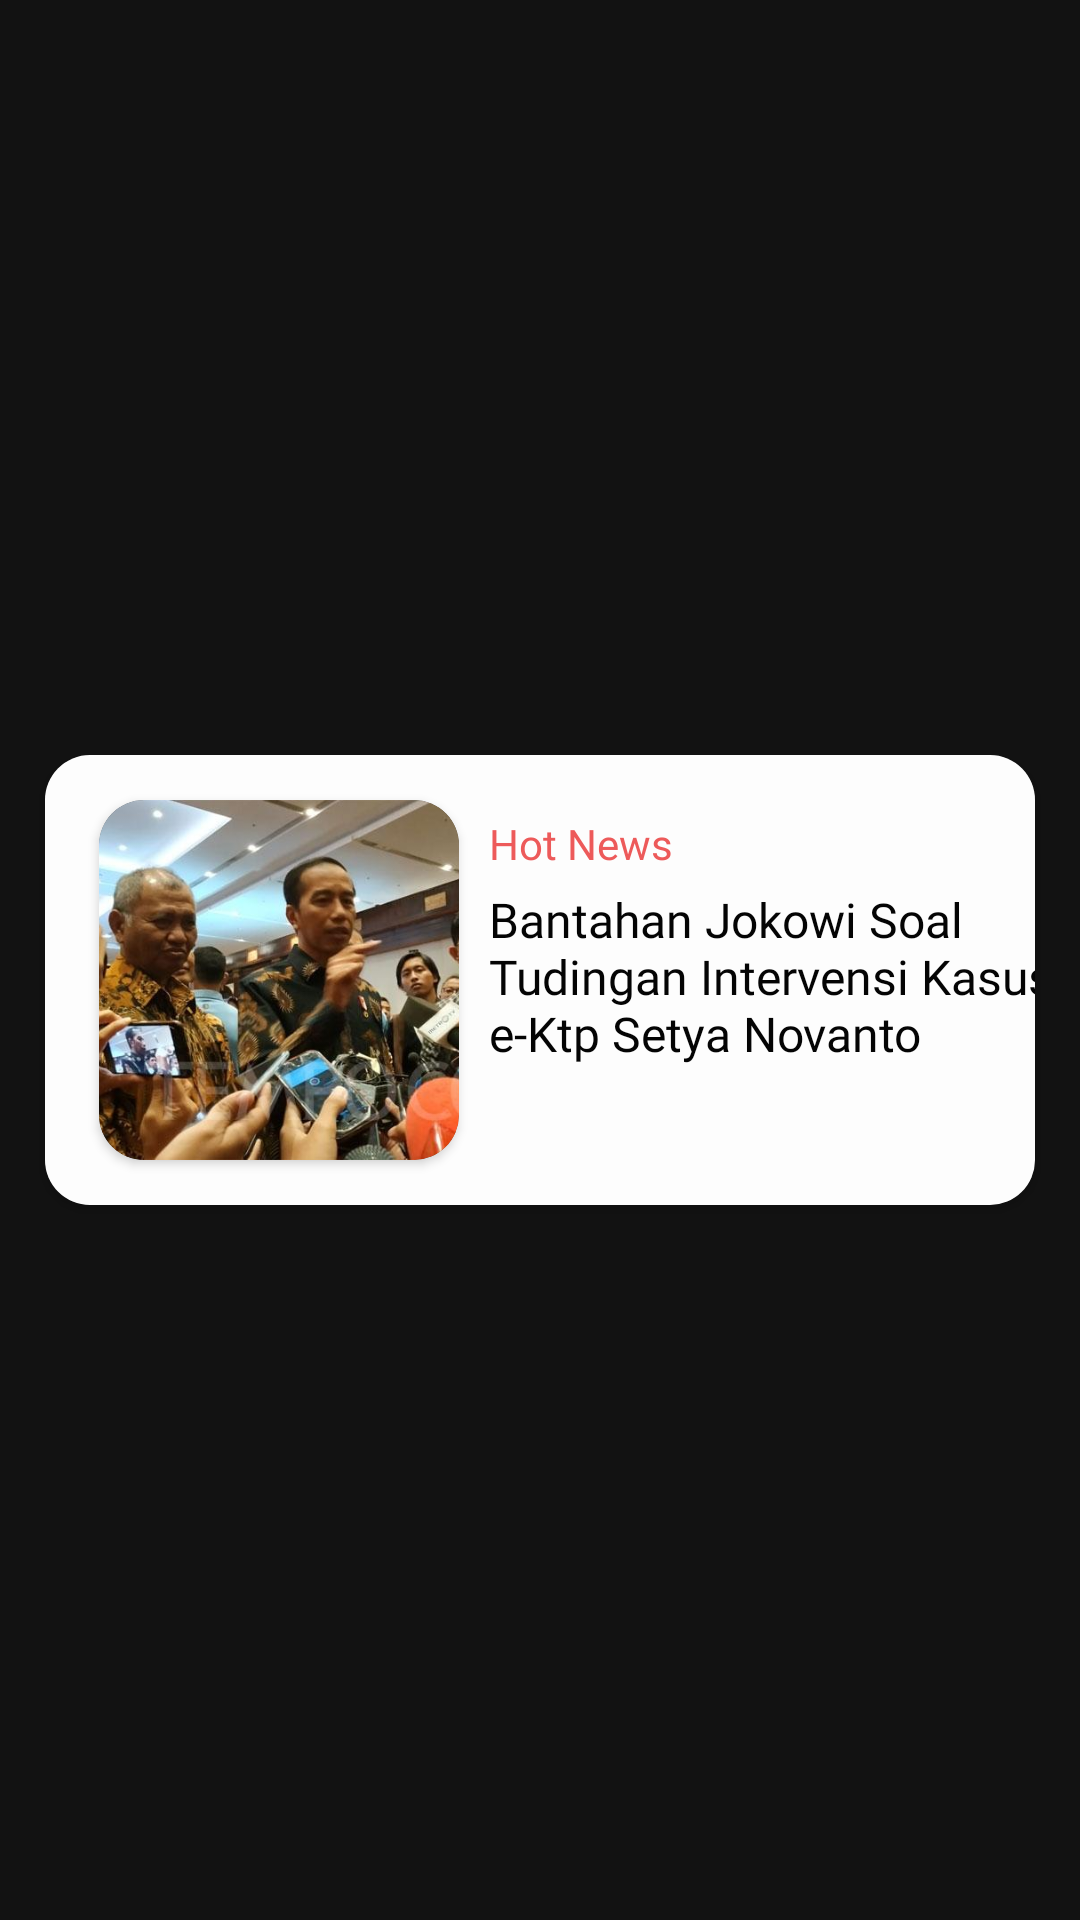

Named icons in this screenshot (1080x1920) and their centers, point (x, y):
politics: point (279, 980)
